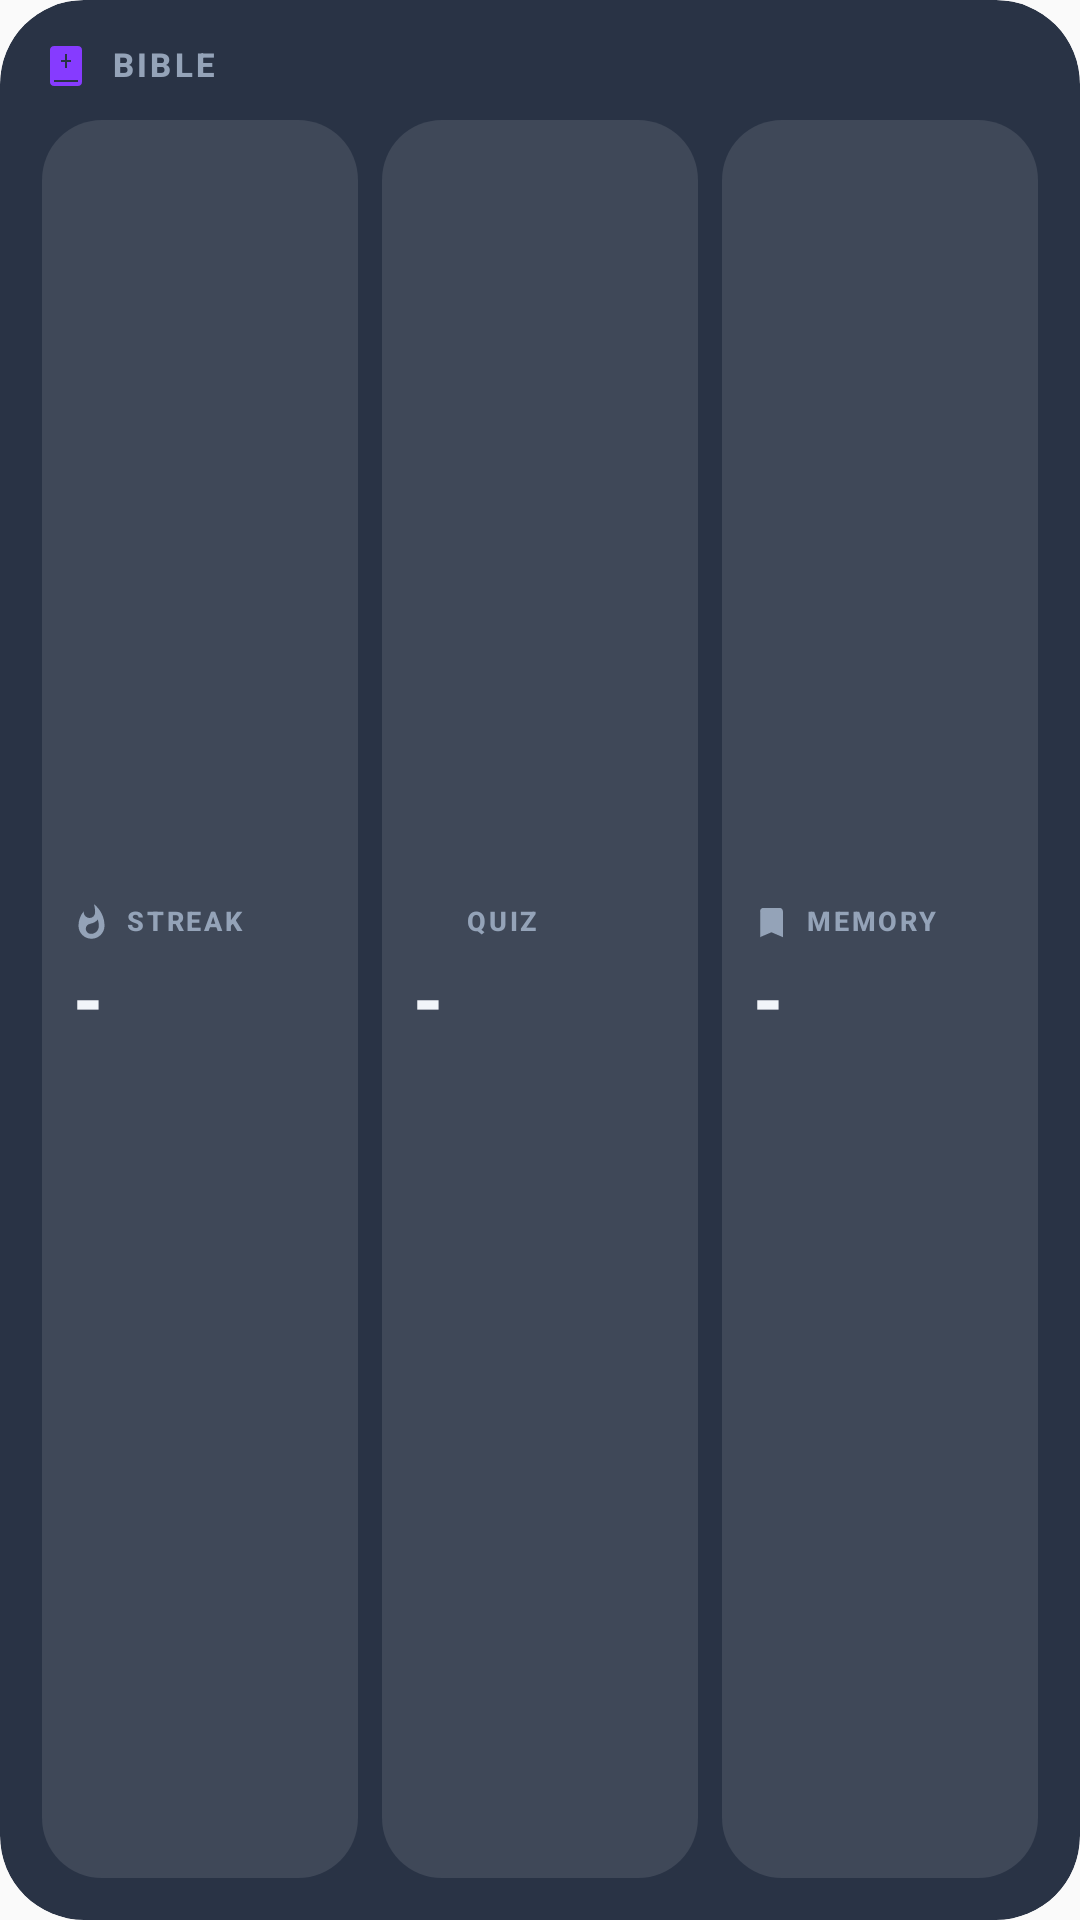

Screen size 1080 × 1920. Icon name, then its center in pixels as (x=x, y=y):
mi book: (x=66, y=66)
mi bookmark: (x=771, y=922)
mi flame: (x=91, y=921)
